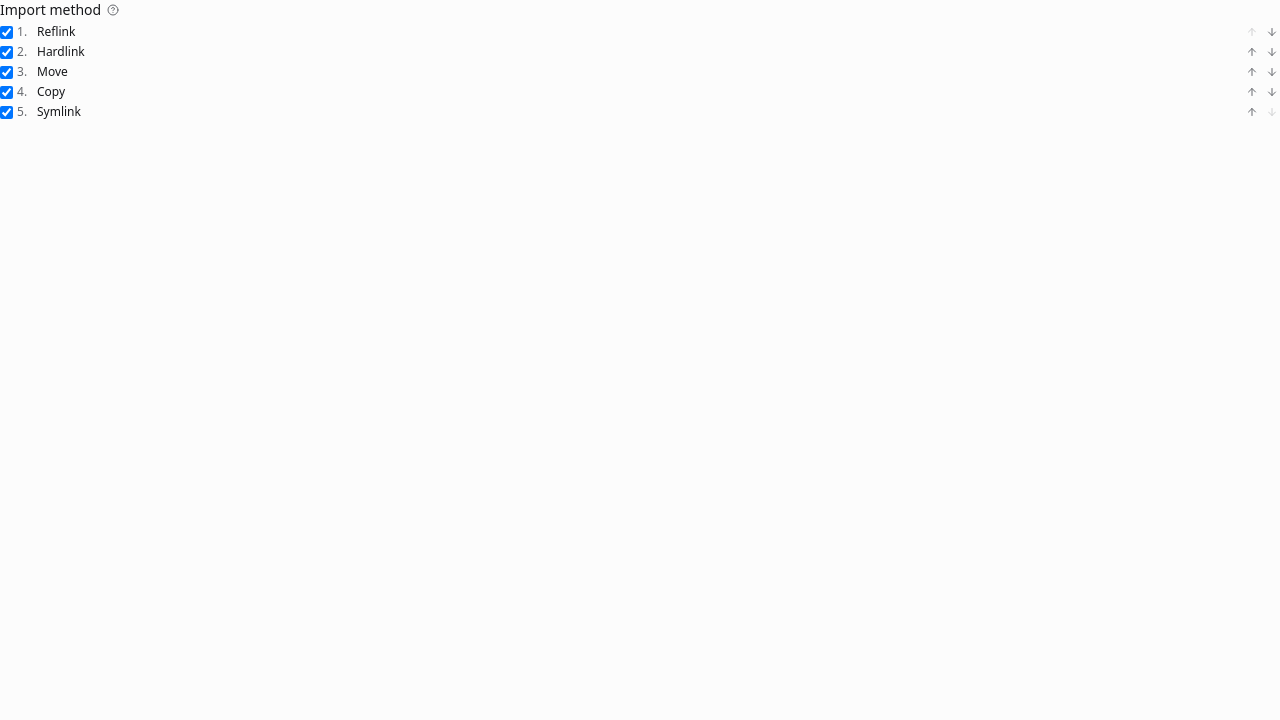
Test: the dialog closes again
Check: the text "Reflink" is shown, box [37,23,75,40]
Click the button named "What do the import methods do" at [113, 10], box [105,2,121,18]
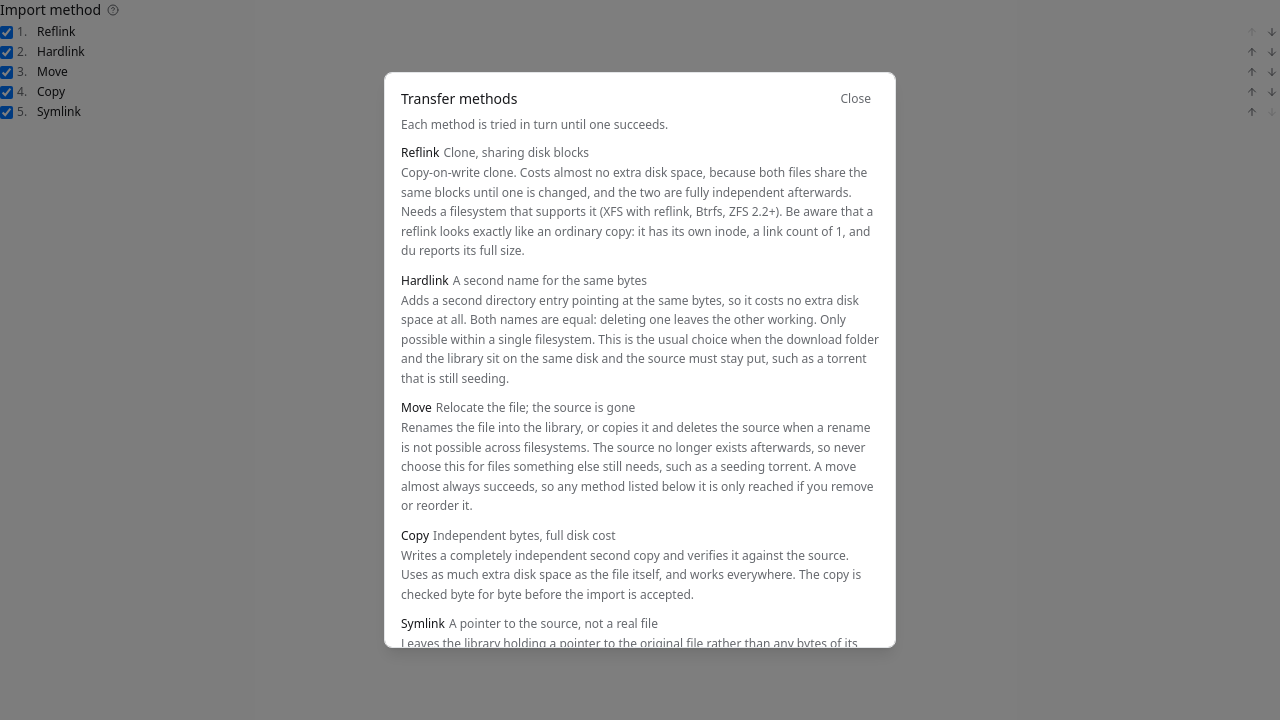
Check: the dialog is shown, box [384,72,896,648]
Click the button "Close" at [856, 99], box [832,89,879,109]
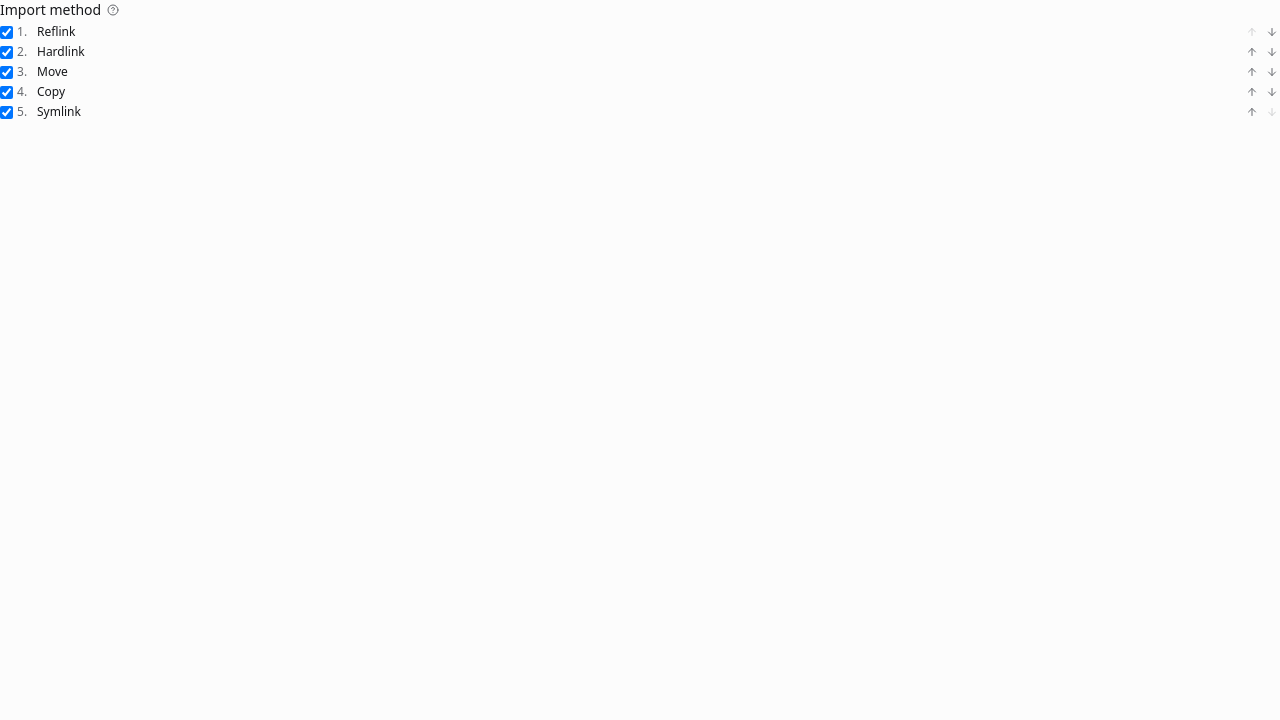
Check: the dialog is gone
